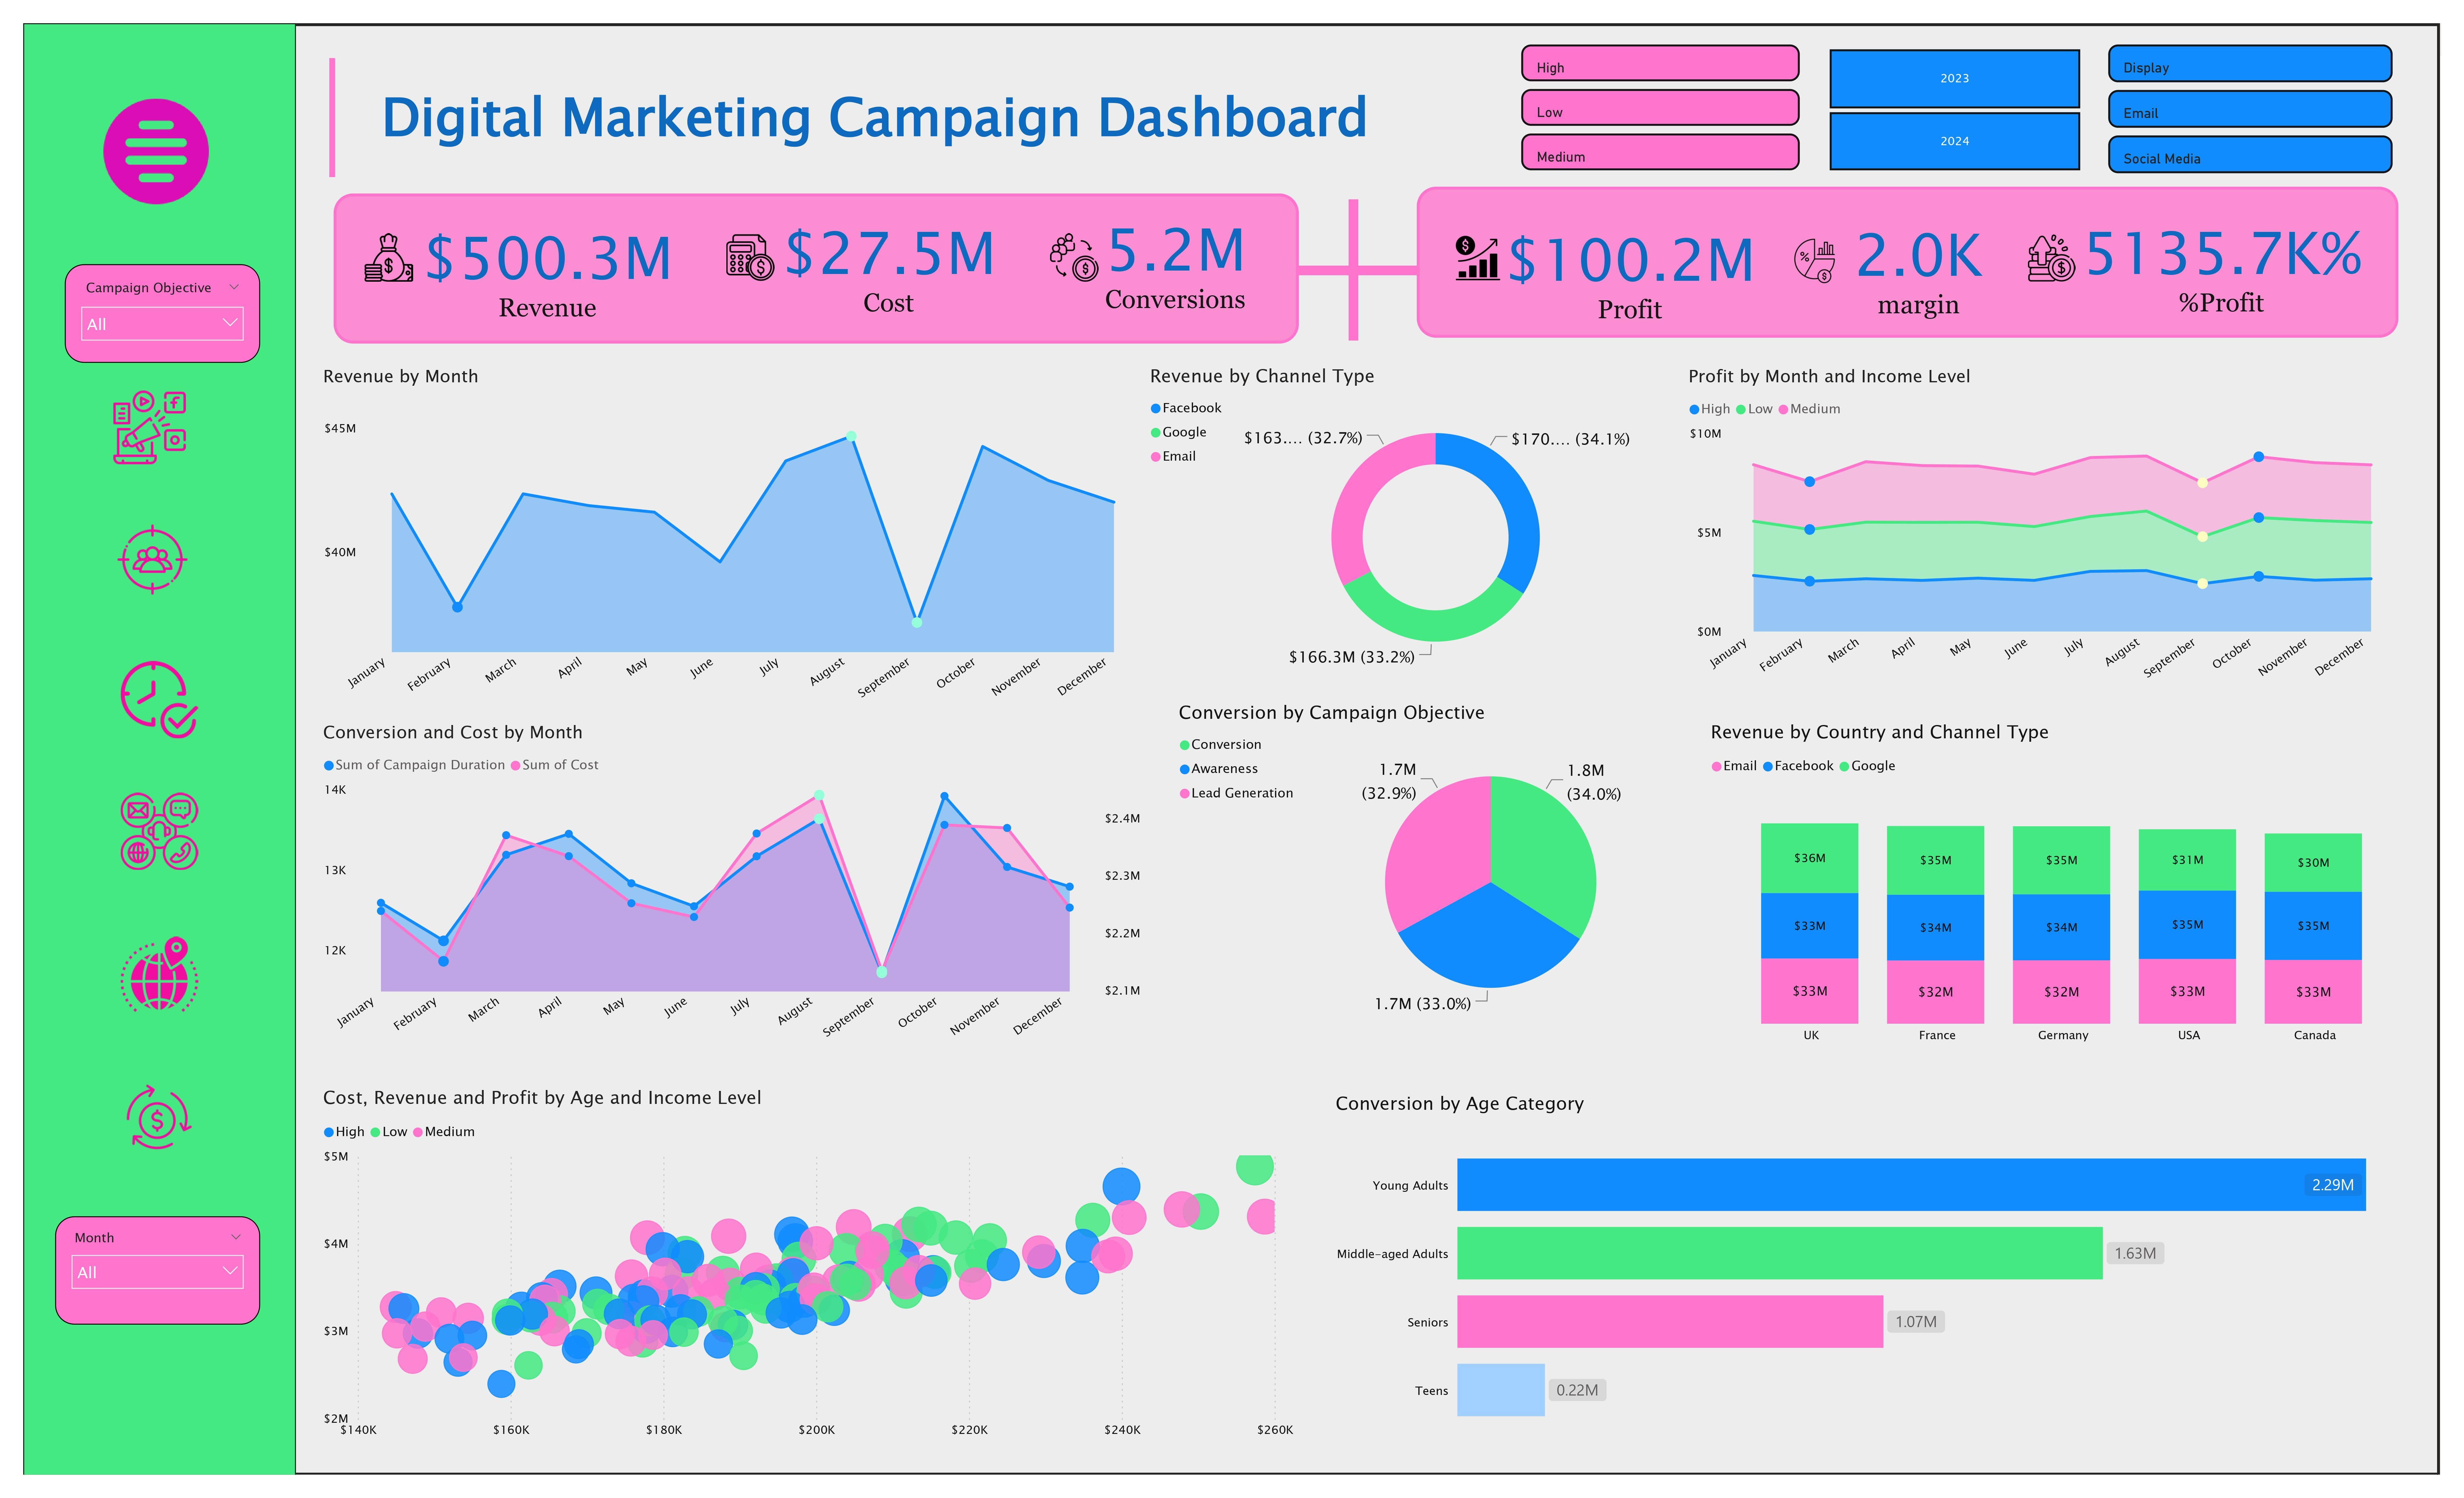

What the dashboard file says about the page in this screenshot:
{"tool":"powerbi","page":{"name":"Dashboard","canvas":[2500,1500],"ordinal":0},"visuals":[{"type":"shape","box":[1441.5,175.6,997.4,155.7],"z":0},{"type":"shape","box":[0,0,2498.6,1501.1],"z":500},{"type":"shape","box":[1441.5,169,1014,155.7],"z":1000},{"type":"shape","box":[298.2,36.5,43.1,122.6],"z":3000},{"type":"shape","box":[321.4,175.6,997.4,155.7],"z":4000},{"type":"card","fields":{"Values":["Sum(marketing_data.Revenue)"]},"box":[377.8,169,328.1,169],"z":5000},{"type":"card","fields":{"Values":["Sum(marketing_data.Cost)"]},"box":[755.5,155.7,278.4,185.6],"z":6000},{"type":"card","fields":{"Values":["Sum(marketing_data.Conversion Value)"]},"box":[1063.7,152.4,255.2,185.6],"z":7000},{"type":"card","fields":{"Values":["Sum(marketing_data.Profit)"]},"box":[1514.4,165.7,294.9,178.9],"z":8000},{"type":"card","fields":{"Values":["Sum(marketing_data.margin)"]},"box":[1852.4,175.6,215.4,149.1],"z":9000},{"type":"textbox","box":[311.5,53,1156.5,92.8],"z":10000},{"type":"shape","box":[0,0,281.7,1501.1],"z":11000},{"type":"lineChart","title":"Revenue by Month","fields":{"Category":["marketing_data.Conversion Date.Variation.Date Hierarchy.Month"],"Y":["Sum(marketing_data.Revenue)"]},"box":[304.9,351.3,855,367.8],"z":12000},{"type":"pieChart","title":"Revenue by Channel Type","fields":{"Category":["marketing_data.Channel Type"],"Y":["Sum(marketing_data.Revenue)"]},"box":[1159.8,351.3,516.9,331.4],"z":13000},{"type":"stackedAreaChart","title":"Profit by Month and Income Level","fields":{"Category":["marketing_data.Conversion Date.Variation.Date Hierarchy.Month"],"Y":["Sum(marketing_data.Profit)"],"Series":["marketing_data.Income Level"]},"box":[1716.5,351.3,739,347.9],"z":14000},{"type":"lineChart","title":"Conversion and Cost by Month","fields":{"Category":["marketing_data.Conversion Date.Variation.Date Hierarchy.Month"],"Y":["Sum(marketing_data.Campaign Duration)"],"Y2":["Sum(marketing_data.Cost)"]},"box":[304.9,719.1,855,351.3],"z":15000},{"type":"pieChart","title":"Conversion by Campaign Objective","fields":{"Category":["marketing_data.Campaign Objective"],"Y":["Sum(marketing_data.Conversion Value)"]},"box":[1189.6,699.2,526.9,347.9],"z":16000},{"type":"columnChart","title":"Revenue by Country and Channel Type","fields":{"Category":["marketing_data.Country"],"Y":["Sum(marketing_data.Revenue)"],"Series":["marketing_data.Channel Type"]},"box":[1739.7,719.1,739,347.9],"z":17000},{"type":"scatterChart","title":"Cost, Revenue and Profit by Age and Income Level","fields":{"Y":["Sum(marketing_data.Revenue)"],"Size":["Sum(marketing_data.Profit)"],"X":["Sum(marketing_data.Cost)"],"Series":["marketing_data.Income Level"],"Category":["marketing_data.Age"]},"box":[304.9,1096.9,1014,377.8],"z":18000},{"type":"card","fields":{"Values":["Sum(marketing_data.%Profit)"]},"box":[2084.4,165.7,377.8,165.7],"z":19000},{"type":"advancedSlicerVisual","fields":{"Values":["marketing_data.Campaign Type"]},"box":[2150.6,16.6,304.9,145.8],"z":20000},{"type":"advancedSlicerVisual","fields":{"Values":["marketing_data.Income Level"]},"box":[1544.2,16.6,298.2,142.5],"z":21000},{"type":"slicer","fields":{"Values":["marketing_data.Campaign Objective"]},"box":[43.1,248.5,202.1,102.7],"z":22000},{"type":"image","box":[72.9,72.9,129.2,119.3],"z":23000},{"type":"slicer","fields":{"Values":["marketing_data.Conversion Date.Variation.Date Hierarchy.Month"]},"box":[33.1,1232.7,212.1,112.7],"z":24000},{"type":"image","box":[89.5,503.7,89.5,99.4],"z":25000},{"type":"image","box":[86.2,367.8,89.5,99.4],"z":26000},{"type":"image","box":[96.1,649.5,89.5,99.4],"z":27000},{"type":"image","box":[96.1,785.4,89.5,99.4],"z":28000},{"type":"image","box":[96.1,934.5,89.5,99.4],"z":29000},{"type":"image","box":[96.1,1080.3,89.5,99.4],"z":30000},{"type":"shape","box":[1315.6,208.8,125.9,92.8],"z":31000},{"type":"slicer","fields":{"Values":["marketing_data.Conversion Date.Variation.Date Hierarchy.Year"]},"box":[1842.5,19.9,308.2,139.2],"z":32000},{"type":"clusteredBarChart","title":"Conversion by Age Category","fields":{"Category":["marketing_data.Age Category"],"Y":["Sum(marketing_data.Conversion Value)"]},"box":[1352,1103.5,1126.7,371.1],"z":33000},{"type":"image","box":[347.9,202.1,59.6,79.5],"z":34000},{"type":"image","box":[722.4,202.1,59.6,79.5],"z":35000},{"type":"image","box":[1057.1,202.1,59.6,79.5],"z":36000},{"type":"image","box":[1474.6,202.1,59.6,79.5],"z":37000},{"type":"image","box":[1822.6,205.5,59.6,79.5],"z":38000},{"type":"image","box":[2067.8,202.1,59.6,79.5],"z":39000},{"type":"shape","box":[1242.7,182.3,265.1,145.8],"z":40000}]}

Visuals, with their boxes in screenshot pixels (x1, y1, x2, y2):
shape: box=[1417, 193, 2382, 344]
shape: box=[23, 23, 2440, 1475]
shape: box=[1417, 187, 2398, 337]
shape: box=[312, 59, 353, 177]
shape: box=[334, 193, 1299, 344]
card - Sum(marketing_data.Revenue): box=[389, 187, 706, 350]
card - Sum(marketing_data.Cost): box=[754, 174, 1023, 354]
card - Sum(marketing_data.Conversion Value): box=[1052, 171, 1299, 350]
card - Sum(marketing_data.Profit): box=[1488, 184, 1773, 357]
card - Sum(marketing_data.margin): box=[1814, 193, 2023, 337]
textbox: box=[324, 75, 1443, 164]
shape: box=[23, 23, 296, 1475]
"Revenue by Month" lineChart: box=[318, 363, 1145, 719]
"Revenue by Channel Type" pieChart: box=[1145, 363, 1645, 684]
"Profit by Month and Income Level" stackedAreaChart: box=[1683, 363, 2398, 700]
"Conversion and Cost by Month" lineChart: box=[318, 719, 1145, 1059]
"Conversion by Campaign Objective" pieChart: box=[1174, 700, 1683, 1036]
"Revenue by Country and Channel Type" columnChart: box=[1705, 719, 2420, 1056]
"Cost, Revenue and Profit by Age and Income Level" scatterChart: box=[318, 1085, 1299, 1450]
card - Sum(marketing_data.%Profit): box=[2039, 184, 2404, 344]
advancedSlicerVisual - marketing_data.Campaign Type: box=[2103, 39, 2398, 180]
advancedSlicerVisual - marketing_data.Income Level: box=[1516, 39, 1805, 177]
slicer - marketing_data.Campaign Objective: box=[65, 264, 260, 363]
image: box=[94, 94, 219, 209]
slicer - marketing_data.Conversion Date.Variation.Date Hierarchy.Month: box=[55, 1216, 260, 1325]
image: box=[110, 511, 196, 607]
image: box=[106, 379, 193, 475]
image: box=[116, 652, 203, 748]
image: box=[116, 783, 203, 879]
image: box=[116, 927, 203, 1024]
image: box=[116, 1069, 203, 1165]
shape: box=[1295, 225, 1417, 315]
slicer - marketing_data.Conversion Date.Variation.Date Hierarchy.Year: box=[1805, 42, 2103, 177]
"Conversion by Age Category" clusteredBarChart: box=[1331, 1091, 2420, 1450]
image: box=[360, 219, 417, 296]
image: box=[722, 219, 780, 296]
image: box=[1045, 219, 1103, 296]
image: box=[1449, 219, 1507, 296]
image: box=[1786, 222, 1844, 299]
image: box=[2023, 219, 2081, 296]
shape: box=[1225, 200, 1481, 341]
